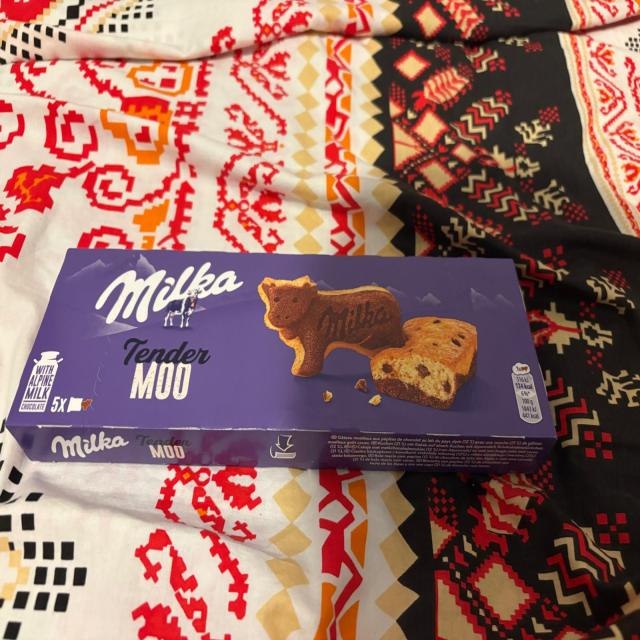good_package: (6, 247, 556, 476)
